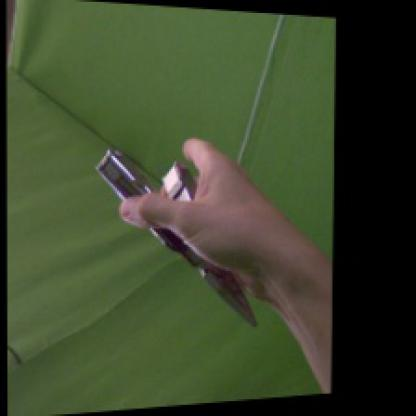Hand: (117, 136, 293, 304)
